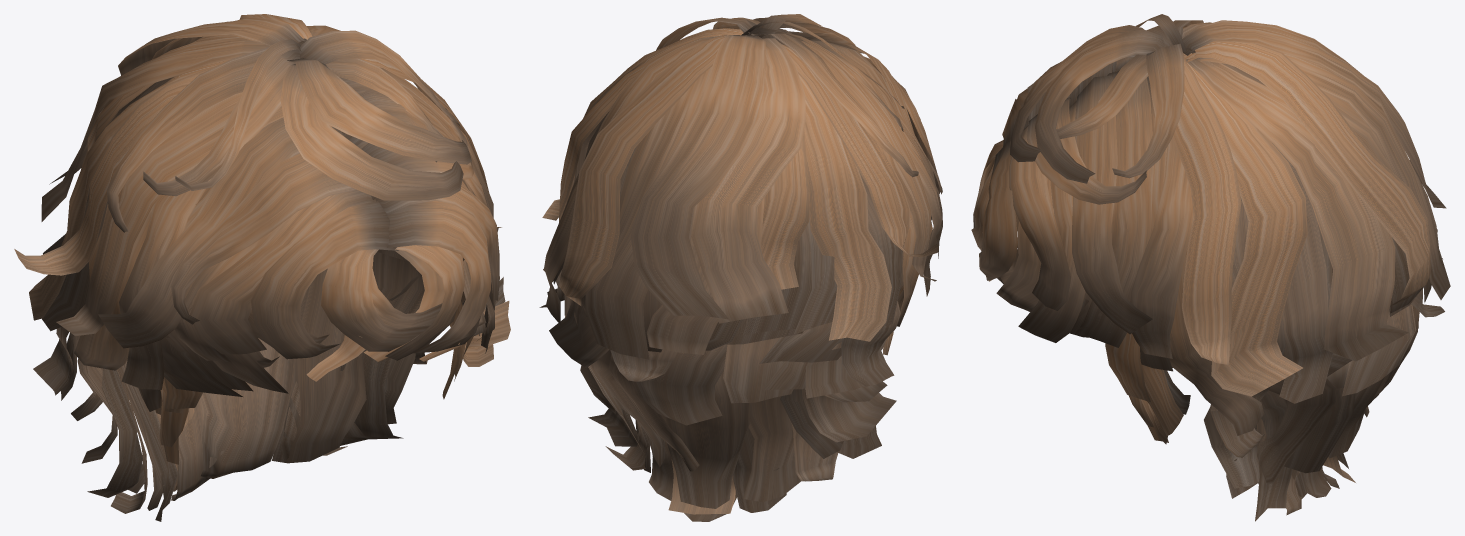
File: Cha-Custom-Base-Hair.glb
The picture shows the model from 3 angles, left to right: view 1: azimuth 30°, elevation 25°; view 2: azimuth 150°, elevation 25°; view 3: azimuth 270°, elevation 25°; orthographic projection. The views are drawn at different scales.
Parts seen in each view (by area): view 1: Hair; view 2: Hair; view 3: Hair.
Boxes of the visible parts, x1,y1,x2,y2 form: Hair: (14,14,510,521); Hair: (539,14,942,521); Hair: (971,14,1450,521).
Bounding box in the file's own units: 0.5084 × 0.5363 × 0.4984.
1 material, 1 textured.
